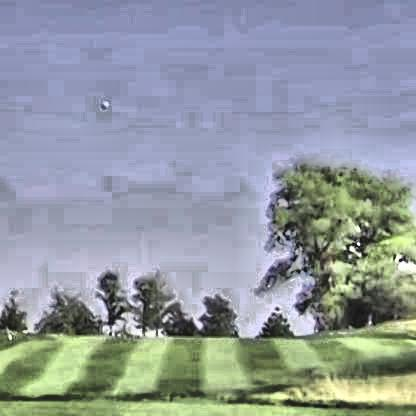golfball: (98, 98, 107, 106)
